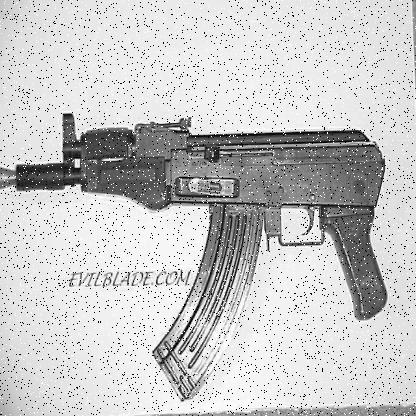rifle: (11, 95, 400, 393)
